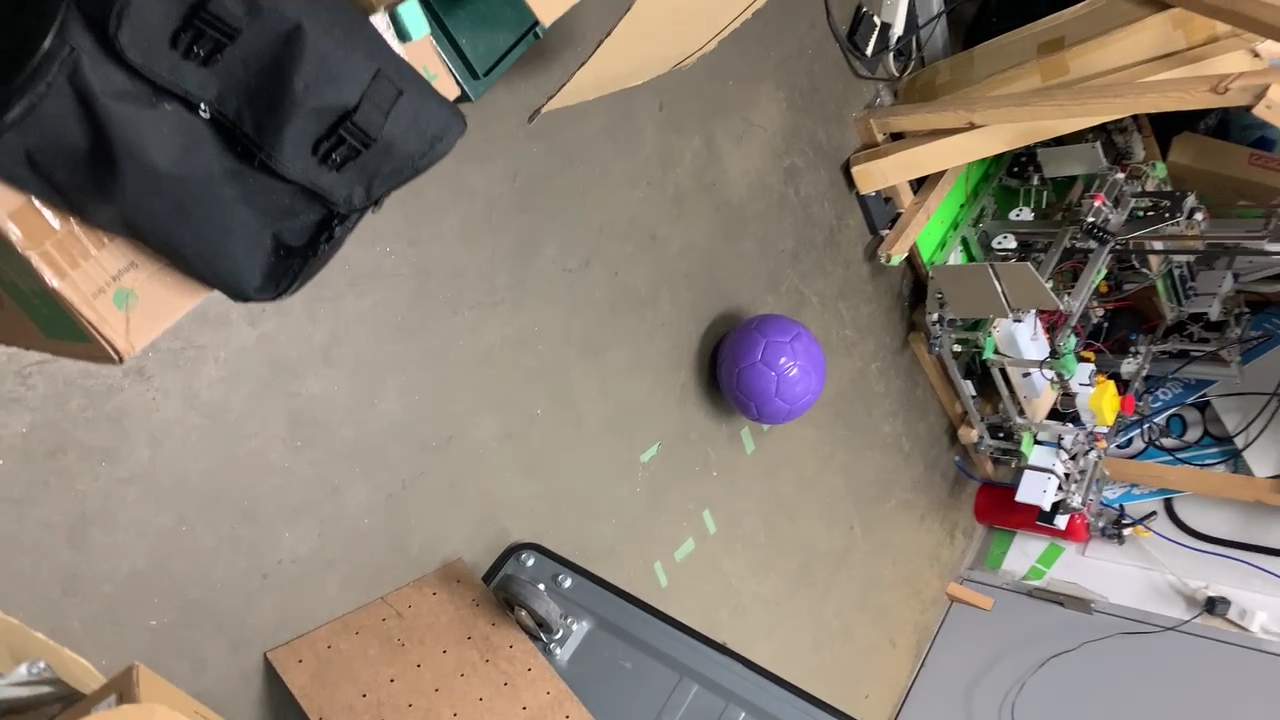purple: (719, 313, 826, 426)
